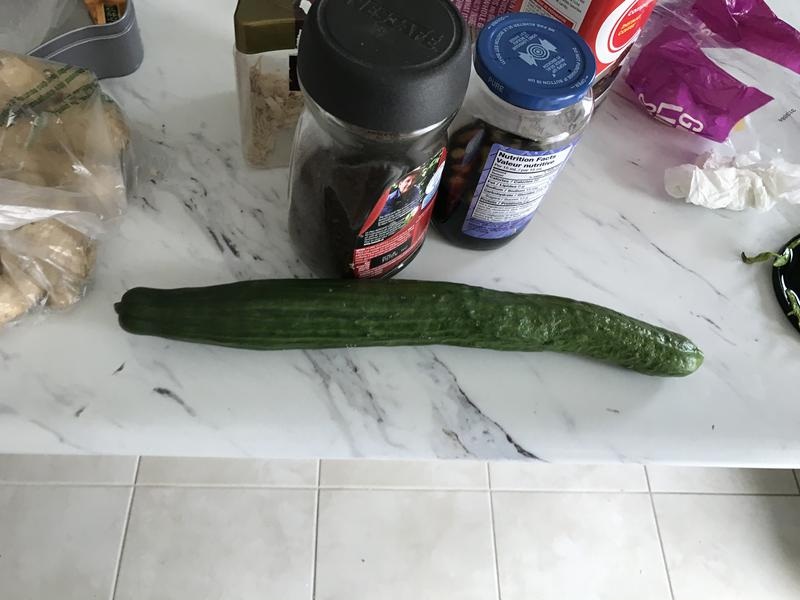cucumber: (109, 269, 711, 387)
